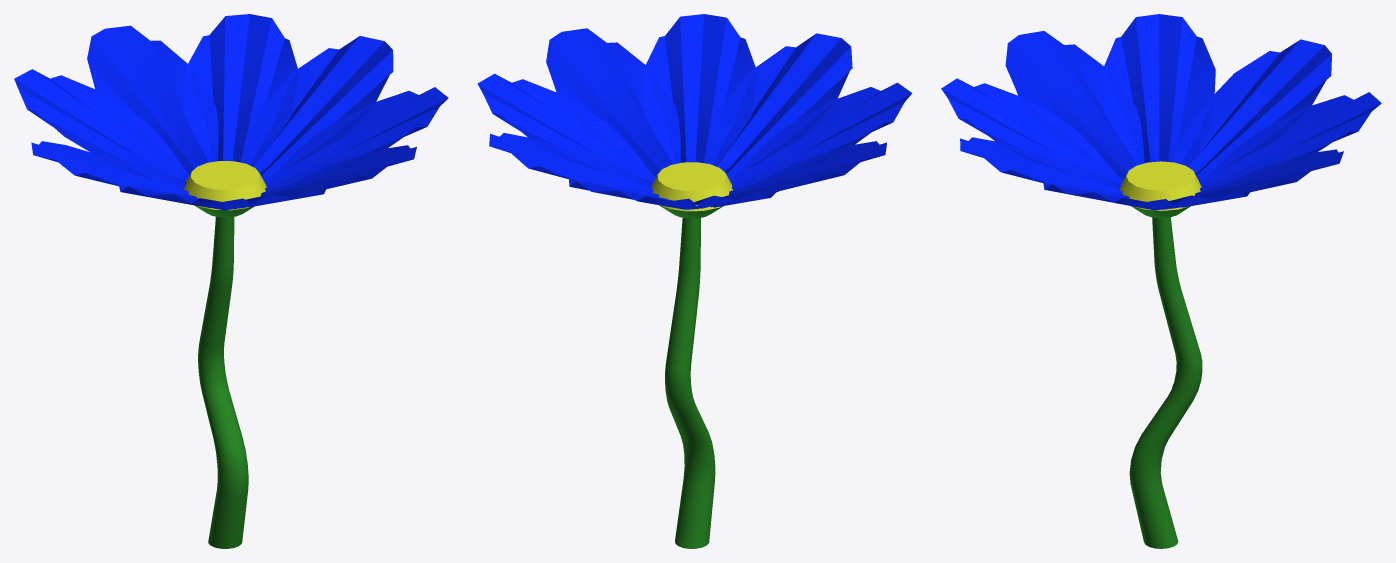
Rendered from bloem-2.fbx.
3 views of the same model, side by side, from view 1: azimuth 30°, elevation 25°; view 2: azimuth 150°, elevation 25°; view 3: azimuth 270°, elevation 25° (orthographic).
Visible parts, largest first — view 1: Circle, Circle.001, Circle.002; view 2: Circle, Circle.001, Circle.002; view 3: Circle, Circle.001, Circle.002.
Boxes of the visible parts, x1,y1,x2,y2 form: Circle: (14,14,448,210); Circle.001: (194,205,254,548); Circle.002: (184,161,266,210); Circle: (477,14,912,209); Circle.001: (659,205,723,548); Circle.002: (651,162,732,211); Circle: (941,14,1381,210); Circle.001: (1129,206,1202,548); Circle.002: (1120,161,1201,210).
Bounding box in the file's own units: 452 × 495 × 455.
